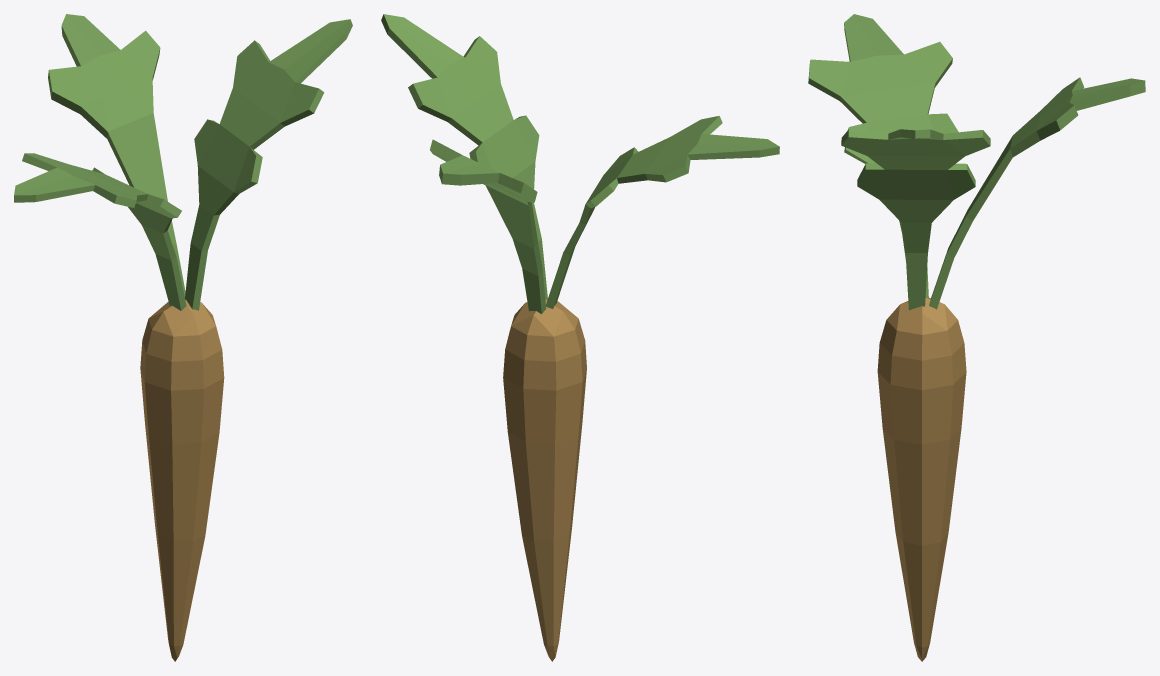
The model's file is Carrot_3.glb.
The picture shows the model from 3 angles, left to right: view 1: azimuth 30°, elevation 25°; view 2: azimuth 150°, elevation 25°; view 3: azimuth 270°, elevation 25°; orthographic projection. The views are drawn at different scales.
Parts seen in each view (by area): view 1: Carrot_3; view 2: Carrot_3; view 3: Carrot_3.
Part boxes in pixels (<box>): Carrot_3: <box>14,14,352,661</box>; Carrot_3: <box>381,14,779,661</box>; Carrot_3: <box>808,14,1145,661</box>.
Bounding box in the file's own units: 0.3336 × 0.5215 × 0.2582.
